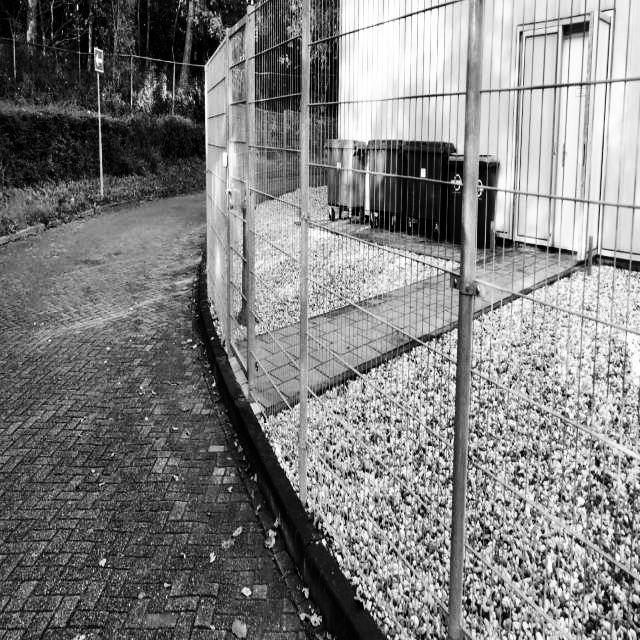fences: (297, 17, 640, 627), (202, 18, 275, 336)
